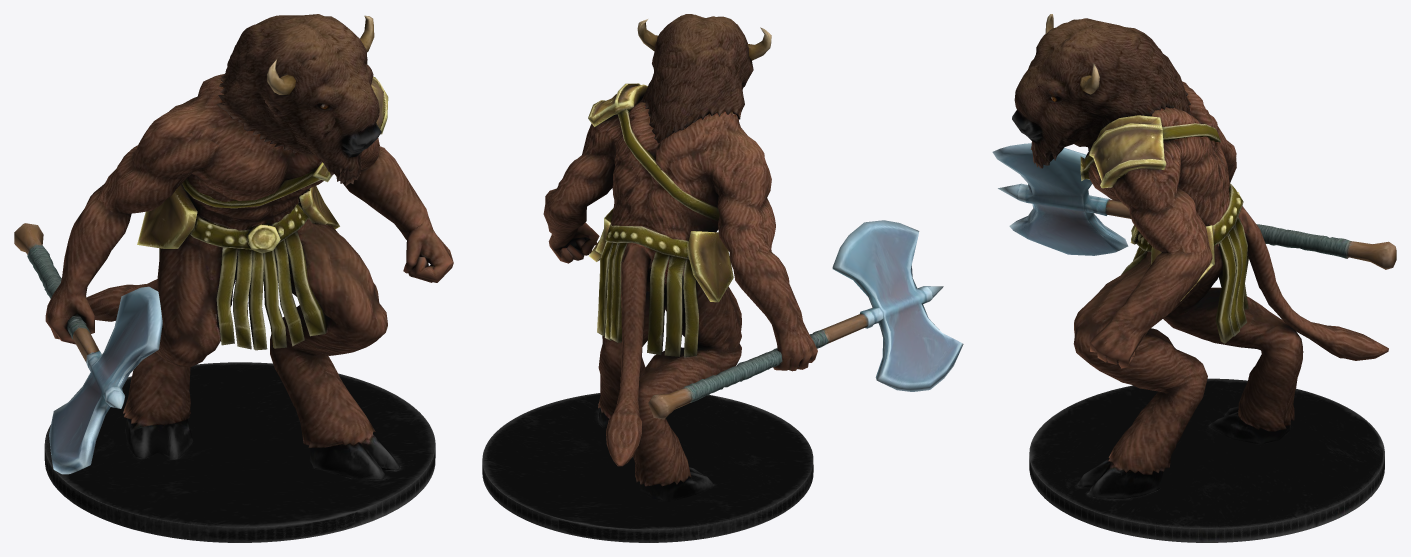
File: MZ4250 - Werebuffalo.glb
3 renders of one model, left to right at view 1: azimuth 30°, elevation 25°; view 2: azimuth 150°, elevation 25°; view 3: azimuth 270°, elevation 25°, orthographic. The views are drawn at different scales.
Parts seen in each view (by area): view 1: body_low.001, base_low.001, head_low.001, harness_low.001, axe_low.001; view 2: body_low.001, base_low.001, axe_low.001, harness_low.001, head_low.001; view 3: body_low.001, base_low.001, head_low.001, axe_low.001, harness_low.001.
Part boxes in pixels (bbox=[...]): body_low.001: bbox=[45, 74, 453, 479]; base_low.001: bbox=[44, 362, 435, 542]; head_low.001: bbox=[216, 14, 381, 185]; harness_low.001: bbox=[137, 76, 388, 350]; axe_low.001: bbox=[14, 223, 162, 474]; body_low.001: bbox=[543, 99, 817, 501]; base_low.001: bbox=[482, 393, 813, 542]; axe_low.001: bbox=[648, 220, 963, 419]; harness_low.001: bbox=[588, 83, 733, 357]; head_low.001: bbox=[637, 14, 771, 143]; body_low.001: bbox=[1073, 81, 1388, 498]; base_low.001: bbox=[1029, 378, 1384, 542]; head_low.001: bbox=[1012, 14, 1190, 168]; axe_low.001: bbox=[992, 143, 1396, 269]; harness_low.001: bbox=[1080, 115, 1248, 343].
Bounding box in the file's own units: 165 × 176 × 146.
1 material, 1 textured.
